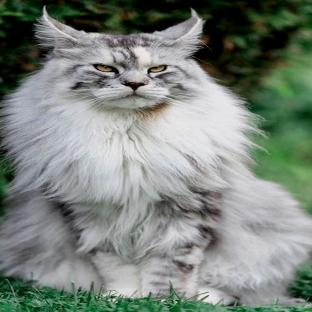Animal: (0, 7, 312, 305)
